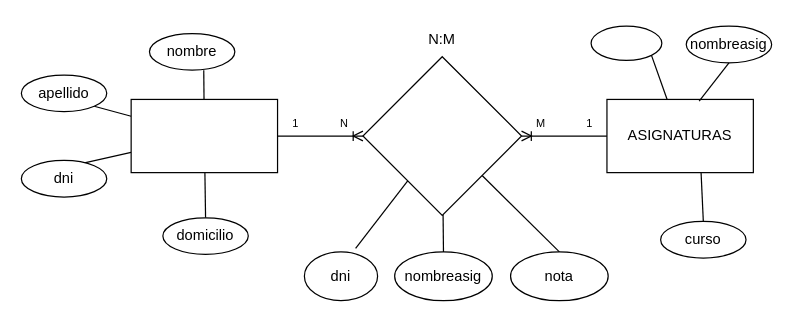
The diagram is 793 pixels wide and 322 high, and some of its shapes have lost their labels. Here are the shapes that lost their labels. From the top down, the box of each, then its label:
(590, 25, 662, 60): idasig
(130, 98, 278, 173): ALUMNOS
(362, 56, 522, 215): CALIFICACIONES
